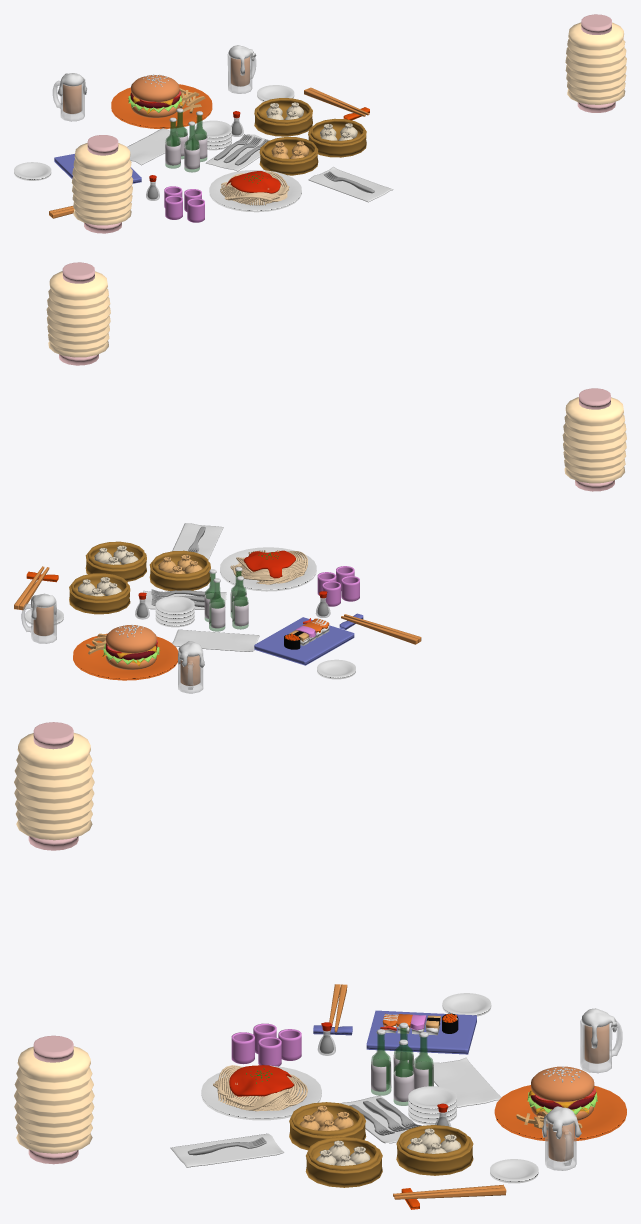
Rendered from Food-All.glb.
The picture shows the model from 3 angles, top to bottom: view 1: azimuth 30°, elevation 25°; view 2: azimuth 150°, elevation 25°; view 3: azimuth 270°, elevation 25°; orthographic projection. The views are drawn at different scales.
Visible parts, largest first — view 1: Cylinder.028, Cylinder.010, plate01.003, Cylinder.025, Cylinder.009, Cylinder.032, plate01.001, Plane.001, Cylinder.001, Noodle.001, Cylinder.024, Plane.003 (+19 smaller); view 2: Cylinder.010, Cylinder.028, plate01.003, Sushi-Plate, Cylinder.025, Cylinder.009, plate01.001, Cylinder.032, Plane.003, Cylinder.001, Noodle.001, Cylinder.035 (+8 smaller); view 3: Cylinder.010, Cylinder.028, plate01.003, Sushi-Plate, Cylinder.025, Cylinder.032, plate01.001, Plane.003, Plane.001, Cylinder.009, Noodle.001, Cylinder.001 (+17 smaller).
Boxes of the visible parts, x1,y1,x2,y2 form: Cylinder.028: [71, 143, 133, 225]; Cylinder.010: [565, 22, 626, 104]; plate01.003: [111, 84, 212, 128]; Cylinder.025: [254, 98, 312, 136]; Cylinder.009: [259, 137, 318, 175]; Cylinder.032: [308, 118, 366, 157]; plate01.001: [209, 170, 301, 212]; Plane.001: [308, 166, 393, 202]; Cylinder.001: [131, 75, 179, 102]; Noodle.001: [220, 171, 289, 205]; Cylinder.024: [52, 80, 84, 121]; Plane.003: [127, 128, 190, 165]; Cylinder.010: [46, 271, 110, 357]; Cylinder.028: [562, 397, 626, 483]; plate01.003: [73, 633, 178, 680]; Sushi-Plate: [254, 617, 354, 665]; Cylinder.025: [69, 573, 130, 614]; Cylinder.009: [149, 550, 210, 590]; plate01.001: [220, 547, 316, 591]; Cylinder.032: [85, 541, 146, 581]; Plane.003: [172, 629, 259, 651]; Cylinder.001: [106, 625, 156, 653]; Noodle.001: [230, 550, 307, 584]; Cylinder.035: [21, 600, 56, 643]; Cylinder.010: [14, 1046, 94, 1153]; Cylinder.028: [14, 733, 94, 840]; plate01.003: [494, 1085, 626, 1141]; Sushi-Plate: [366, 1010, 476, 1054]; Cylinder.025: [396, 1125, 473, 1175]; Cylinder.032: [305, 1137, 382, 1187]; plate01.001: [201, 1065, 321, 1120]; Plane.003: [431, 1057, 501, 1107]; Plane.001: [170, 1133, 284, 1167]; Cylinder.009: [289, 1102, 366, 1150]; Noodle.001: [213, 1065, 307, 1111]; Cylinder.001: [531, 1066, 594, 1102].
Size of the model in its own units: 26.02 by 7.85 by 19.39.
